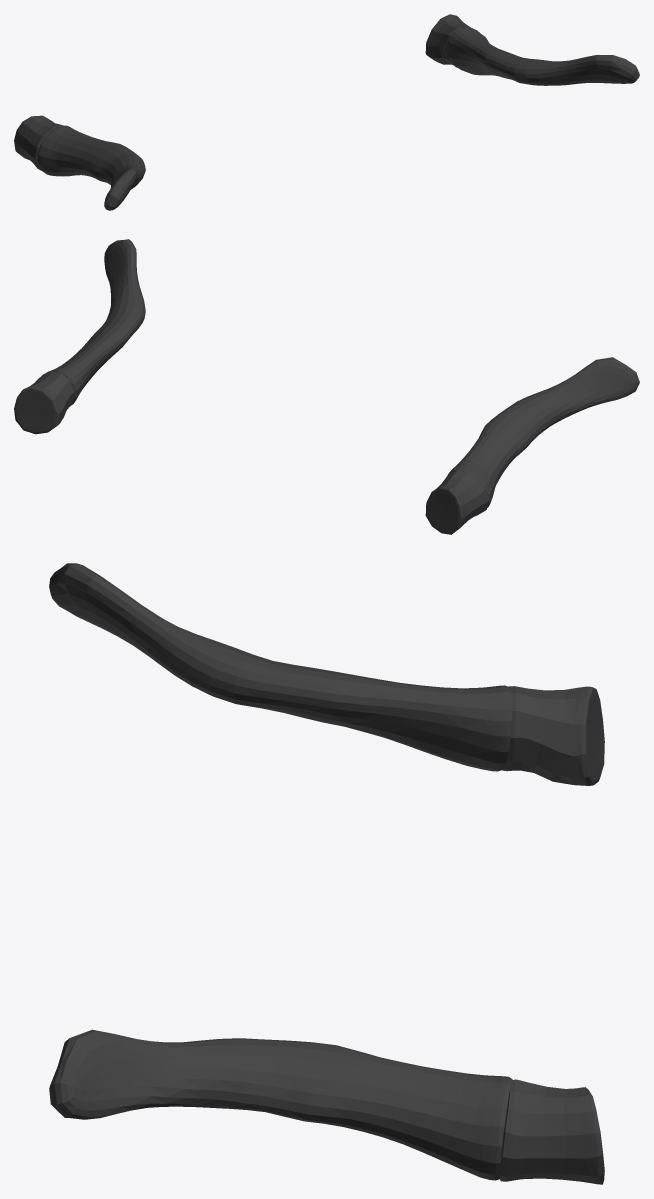
Rendered from hyoid_stylohyoid_LO.glb.
3 views of the same model, one above another, from view 1: azimuth 30°, elevation 25°; view 2: azimuth 150°, elevation 25°; view 3: azimuth 270°, elevation 25° (orthographic). The views are drawn at different scales.
Parts seen in each view (by area): view 1: hyoid_stylohyoid_LO; view 2: hyoid_stylohyoid_LO; view 3: hyoid_stylohyoid_LO.
Part boxes in pixels (x1,y1,x2,y2): hyoid_stylohyoid_LO: (14,14,639,210); hyoid_stylohyoid_LO: (14,239,639,534); hyoid_stylohyoid_LO: (49,563,604,1184).
Bounding box in the file's own units: 0.5816 × 0.0929 × 0.2624.
Materials: 1 (1 with a texture image).
